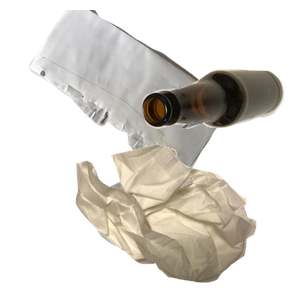glass: (140, 67, 300, 188)
paper: (27, 10, 252, 187)
plastic: (92, 176, 257, 300)
trash: (73, 142, 300, 300)
